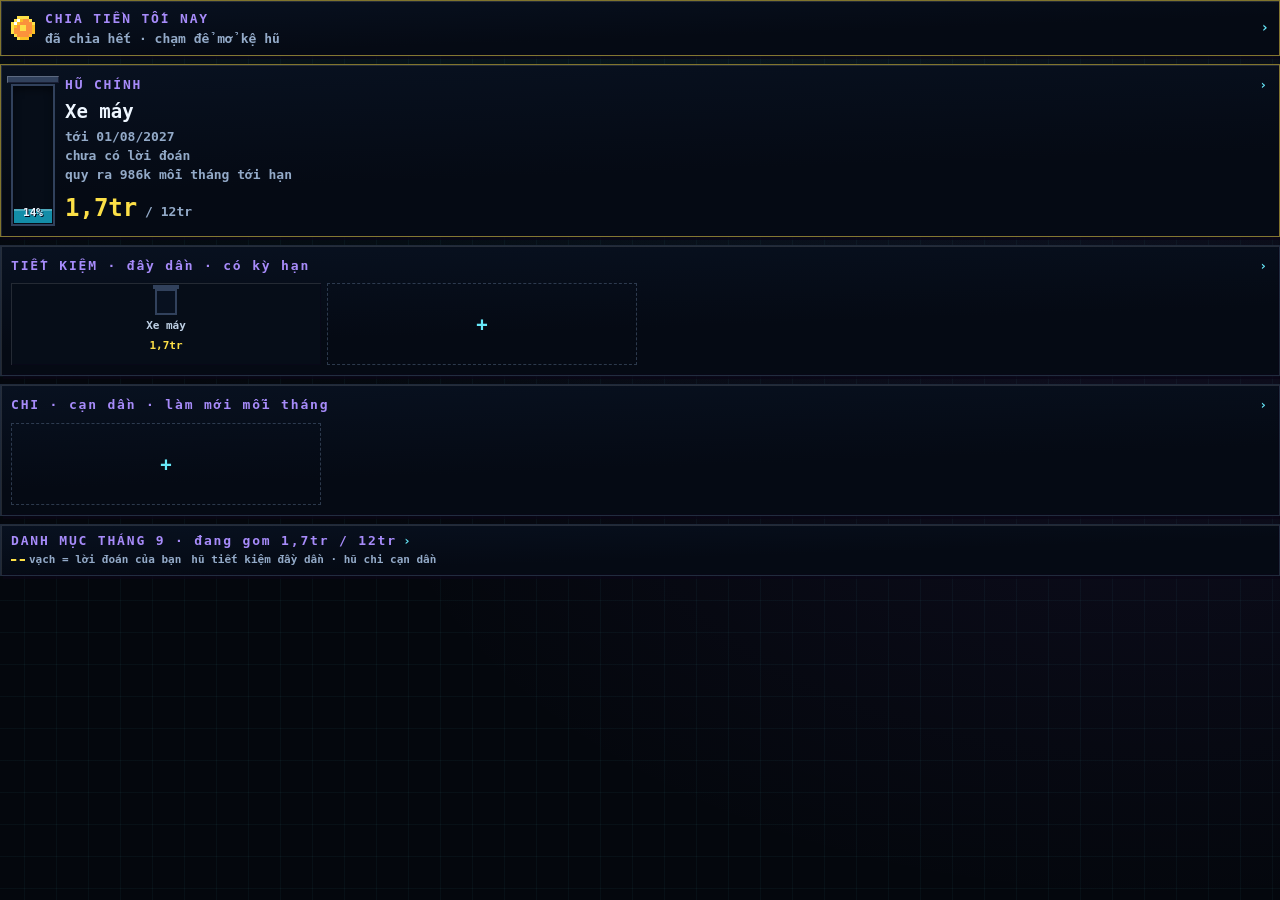
Test: §VI — ⭐⭐⭐ Lá vị thế mở ⇒ biểu đồ KẾ HOẠCH · THỰC GÓP, điểm cuối = số "đã góp" trên lá › ⭐⭐⭐ hũ có kỳ hạn: biểu đồ hiện khi MỞ lá; THỰC GÓP = tongGopVaoHu (đúng số trên lá)
What coordinates should you click on to do the following:
click the button with aria-label "HŨ CHÍNH: Xe máy"
I would click on:
 (640, 150)
Its box is [0,64,1279,237].
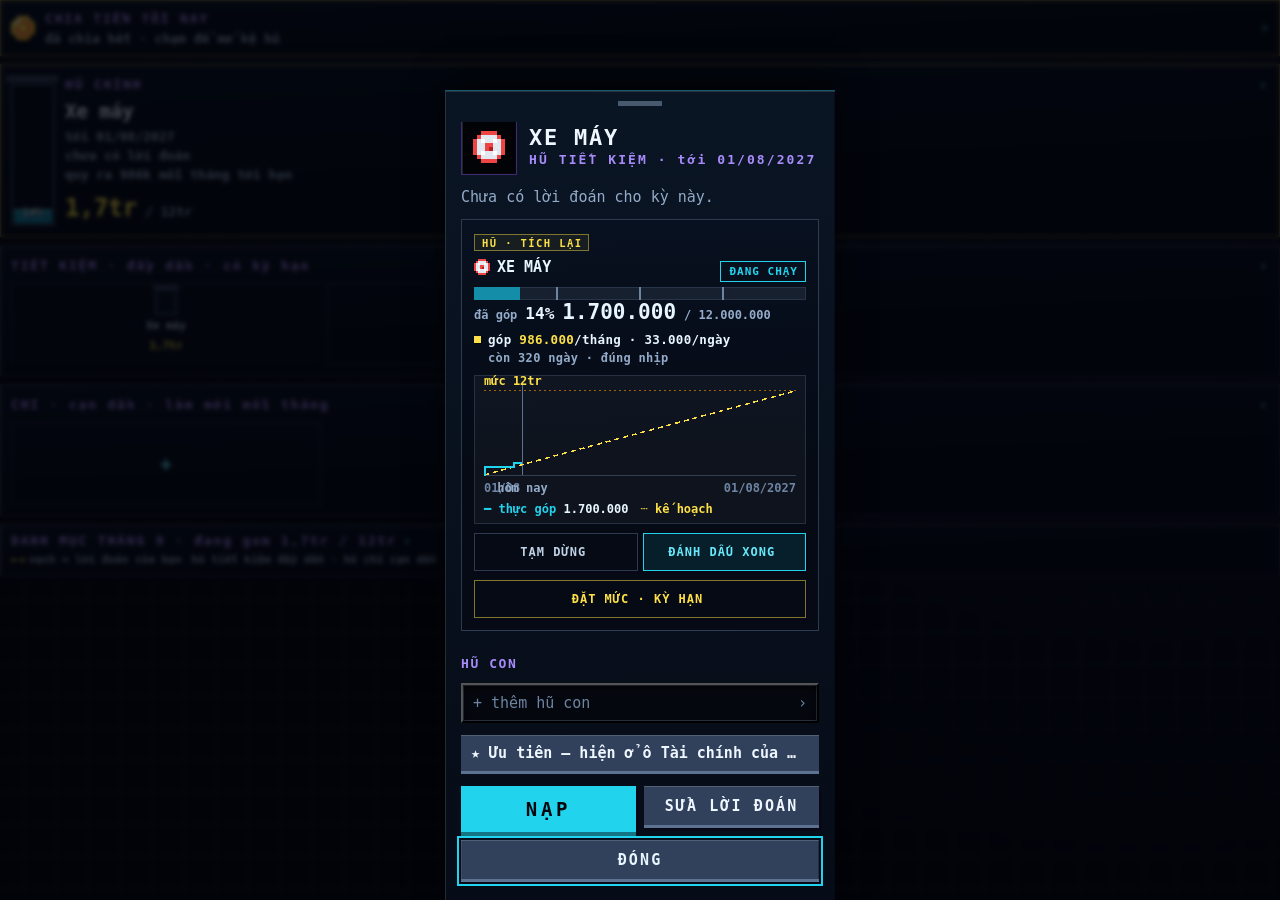
Now the text "XE MÁY" is shown, box [474,258,551,276]
